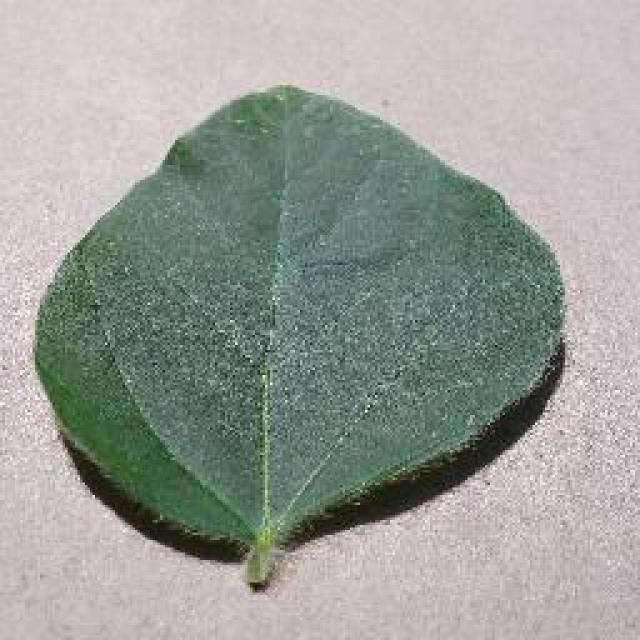Soy_healthy: (62, 131, 535, 509)
